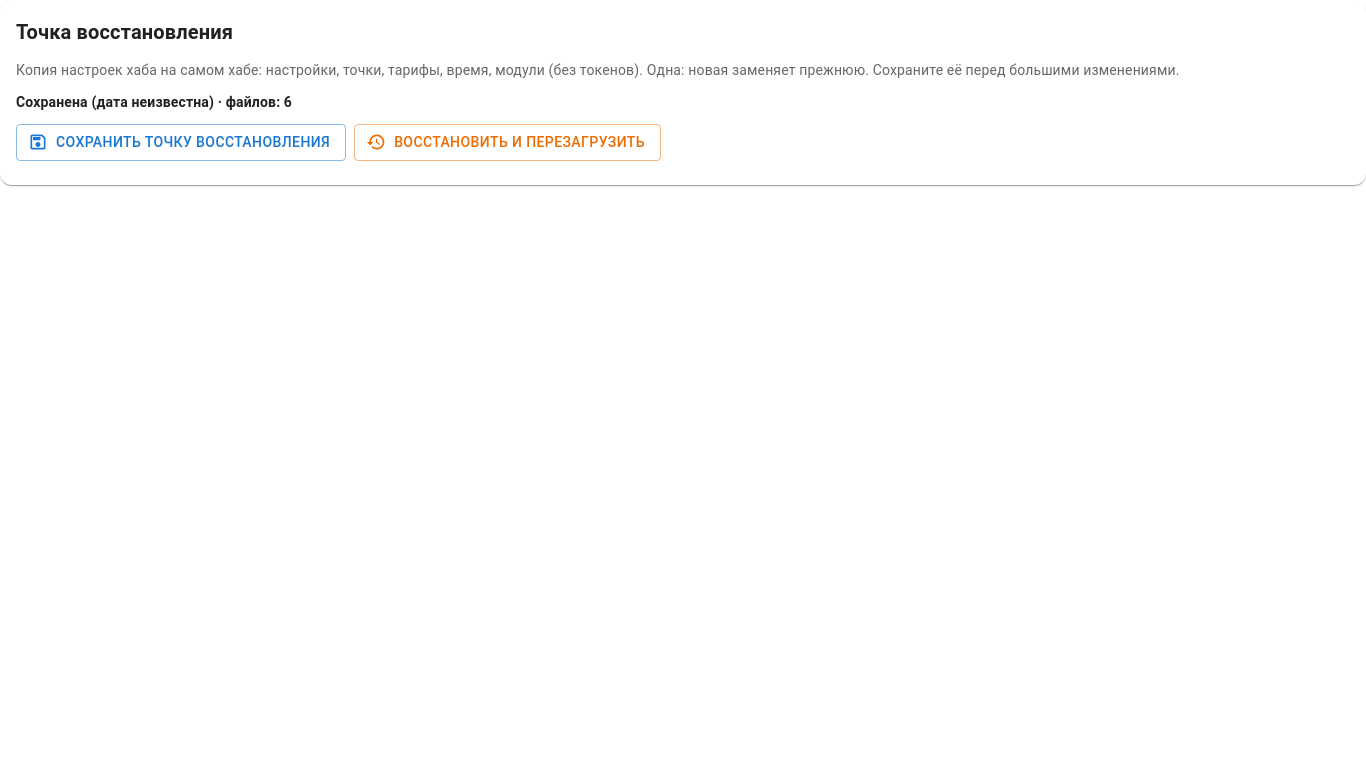
BackupPanel error answers (fw 1.1.7, root restore-point-errors) › restore 404 → «no restore point»
This screenshot has width=1366, height=768.
Click the button "Восстановить и перезагрузить" at coordinates (508, 142), box [354,124,661,160]
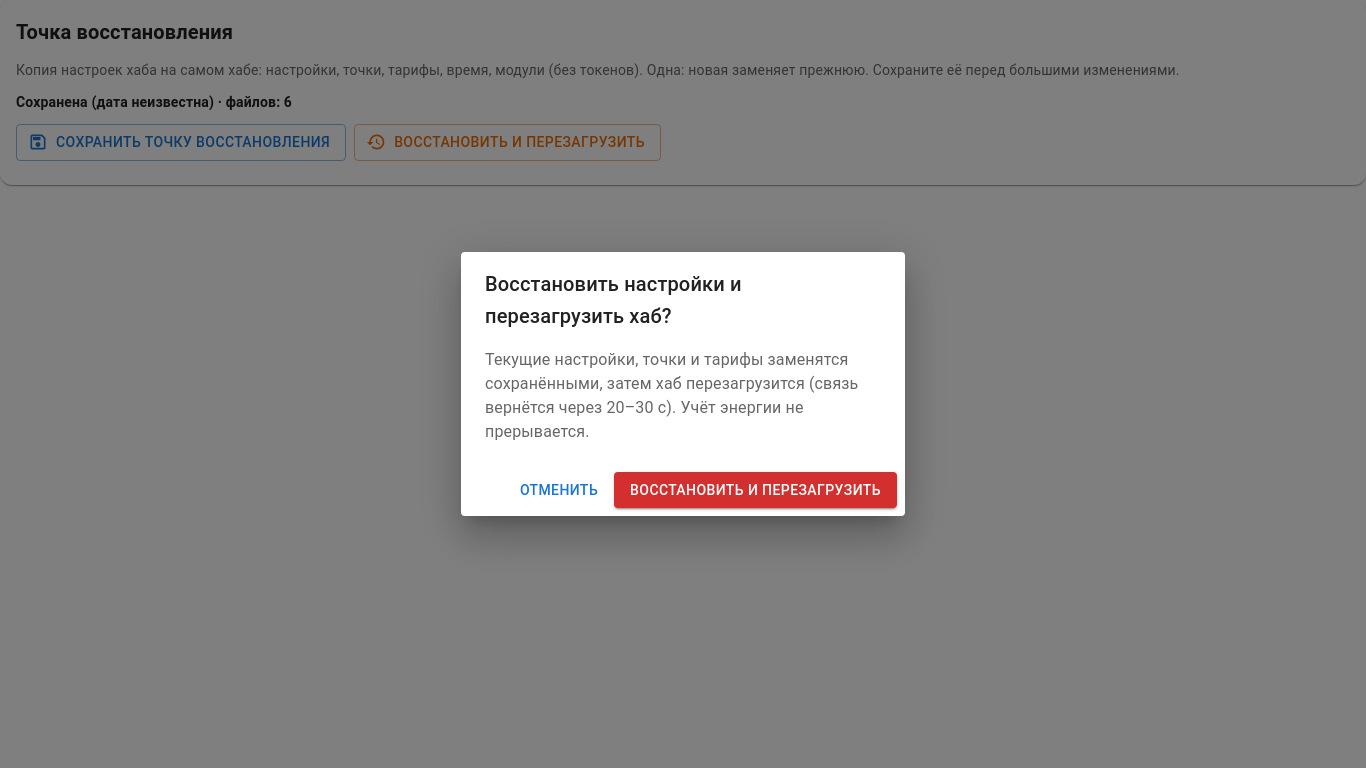
Click the button "Восстановить и перезагрузить" at coordinates (756, 490), box [614,472,897,508]
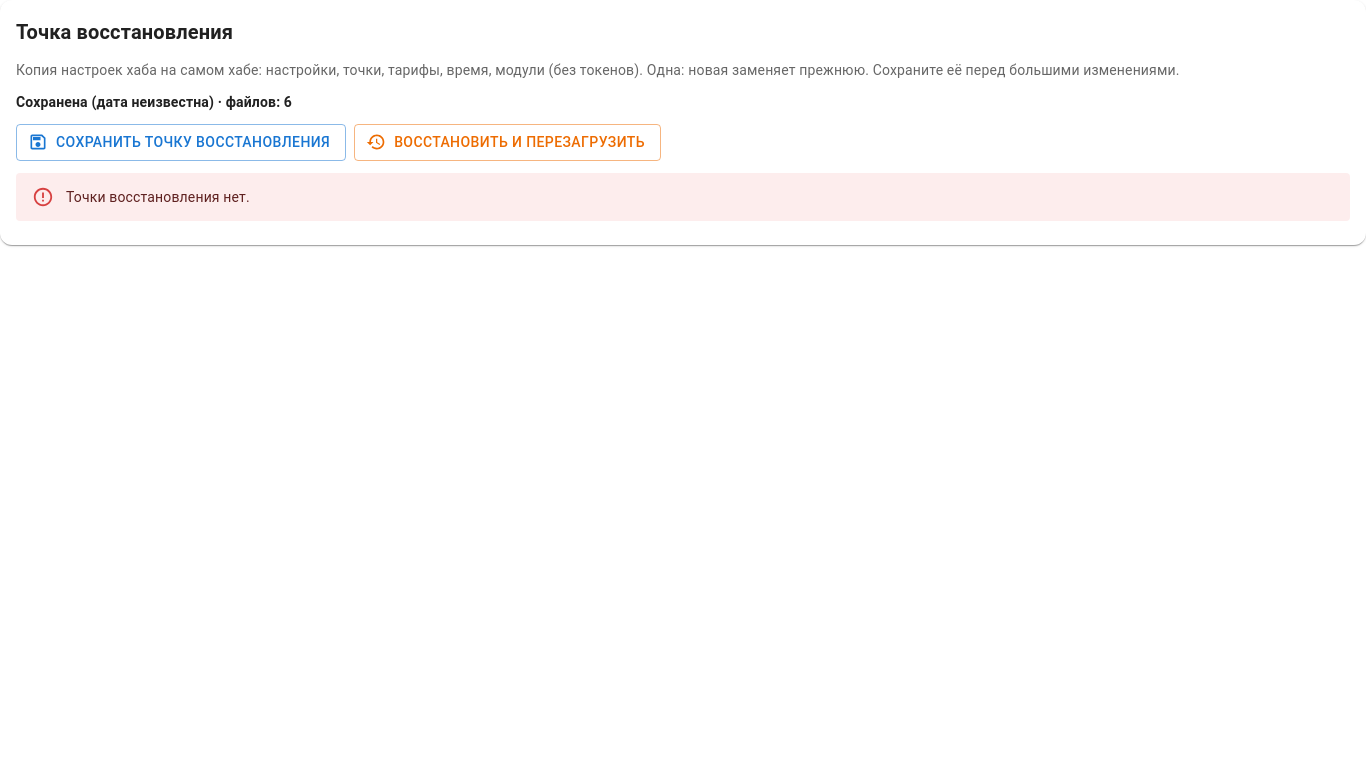
Now the text "Точки восстановления нет." is shown, box [66,188,250,204]
